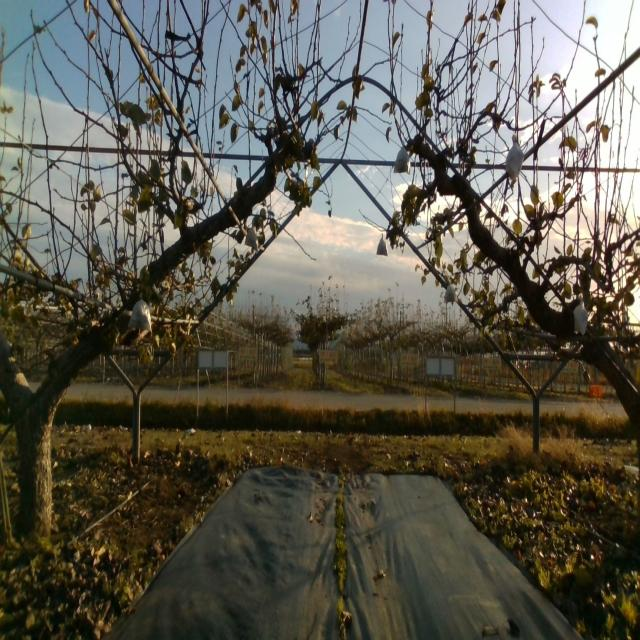pearbags: (128, 290, 154, 336), (504, 134, 524, 181), (573, 295, 590, 337), (392, 141, 411, 174), (245, 226, 260, 251), (445, 284, 460, 305), (376, 232, 388, 256)
